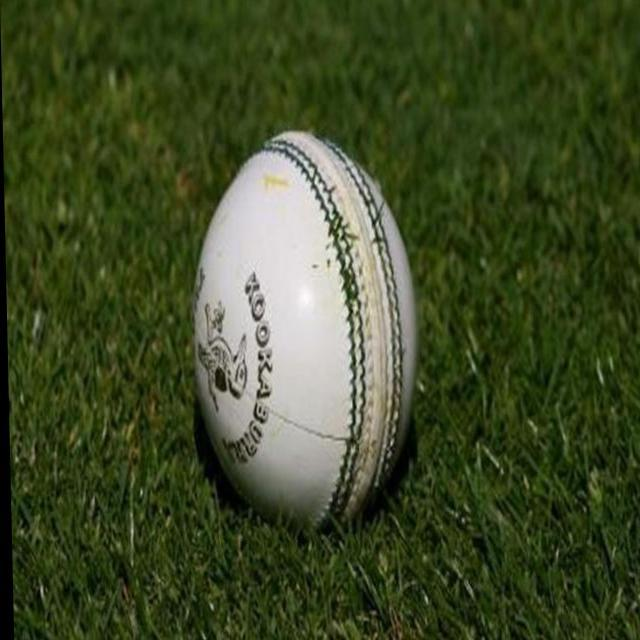cricket ball: (190, 130, 416, 540)
